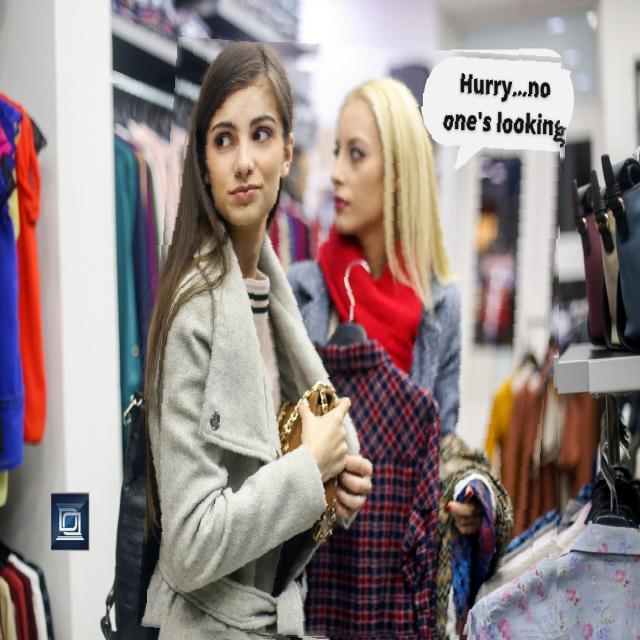Shoplifting: (147, 42, 561, 640)
